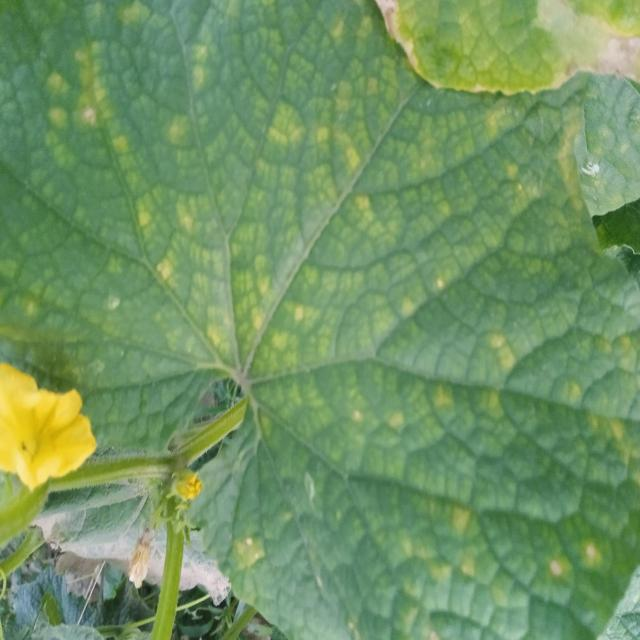cucumber_downy: (43, 39, 640, 616)
